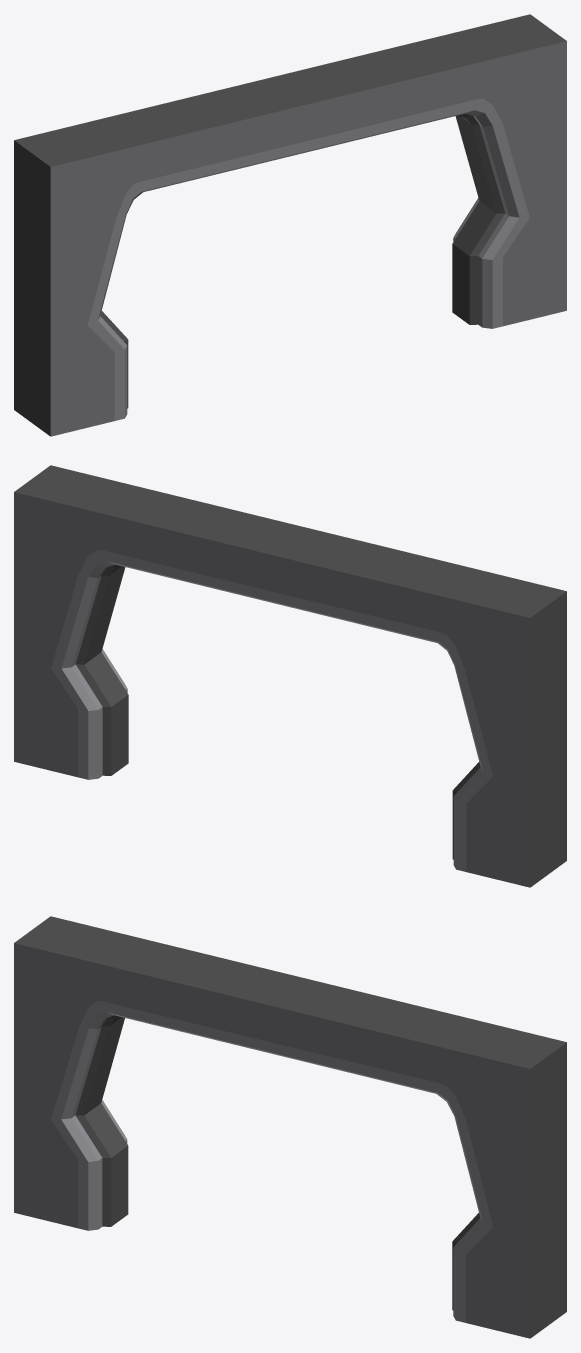
The model's file is SM_Bld_Corridor_Double_Arch_02.fbx.
The picture shows the model from 3 angles, top to bottom: view 1: azimuth 30°, elevation 25°; view 2: azimuth 150°, elevation 25°; view 3: azimuth 330°, elevation 25°; orthographic projection.
Visible parts, largest first — view 1: SM_Bld_Corridor_Double_Arch_02_LOD0; view 2: SM_Bld_Corridor_Double_Arch_02_LOD0; view 3: SM_Bld_Corridor_Double_Arch_02_LOD0.
Part boxes in pixels (left/top/right/bottom): SM_Bld_Corridor_Double_Arch_02_LOD0: left=14, top=14, right=566, bottom=436; SM_Bld_Corridor_Double_Arch_02_LOD0: left=14, top=465, right=566, bottom=887; SM_Bld_Corridor_Double_Arch_02_LOD0: left=14, top=916, right=566, bottom=1338.
Size of the model in its own units: 122 by 990 by 494.
Materials: 1 (1 with a texture image).
